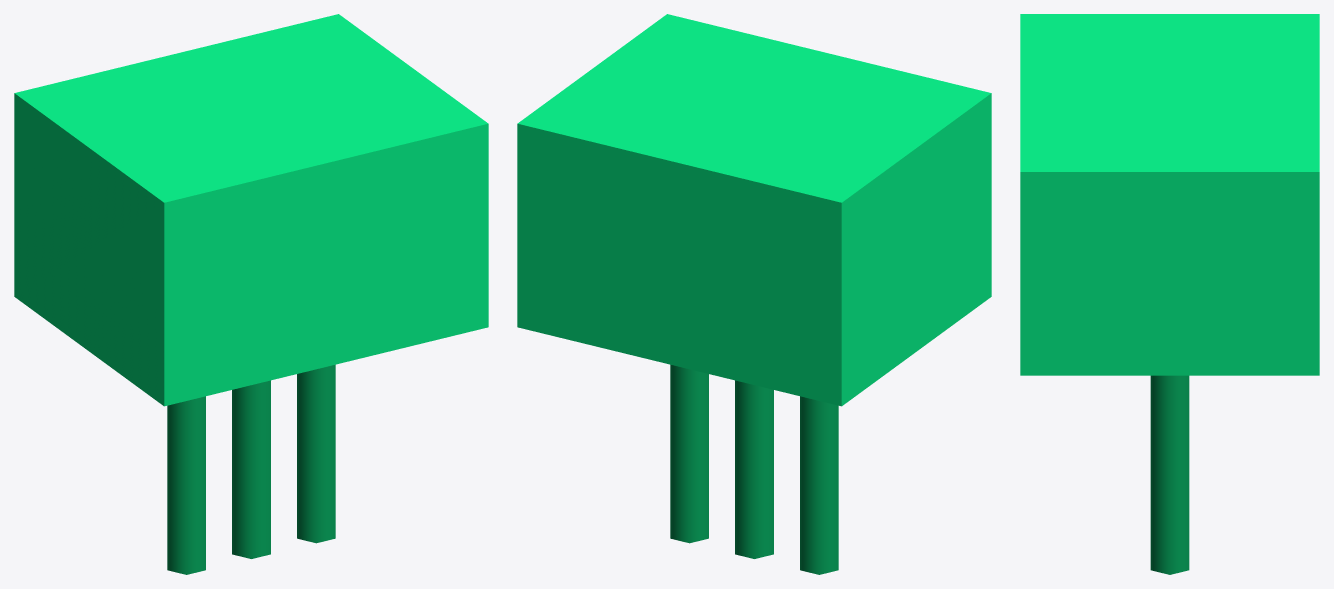
The model's file is transistores.glb.
3 views of the same model, side by side, from view 1: azimuth 30°, elevation 25°; view 2: azimuth 150°, elevation 25°; view 3: azimuth 270°, elevation 25° (orthographic).
Parts seen in each view (by area): view 1: Body, Detail; view 2: Body, Detail; view 3: Body, Detail.
Boxes of the visible parts, box(x1,y1,x2,y2) form: Body: box(14, 14, 488, 406); Detail: box(167, 364, 335, 574); Body: box(517, 14, 991, 406); Detail: box(670, 364, 838, 574); Body: box(1020, 14, 1319, 375); Detail: box(1150, 375, 1189, 574).
Size of the model in its own units: 0.1 by 0.13 by 0.08.
